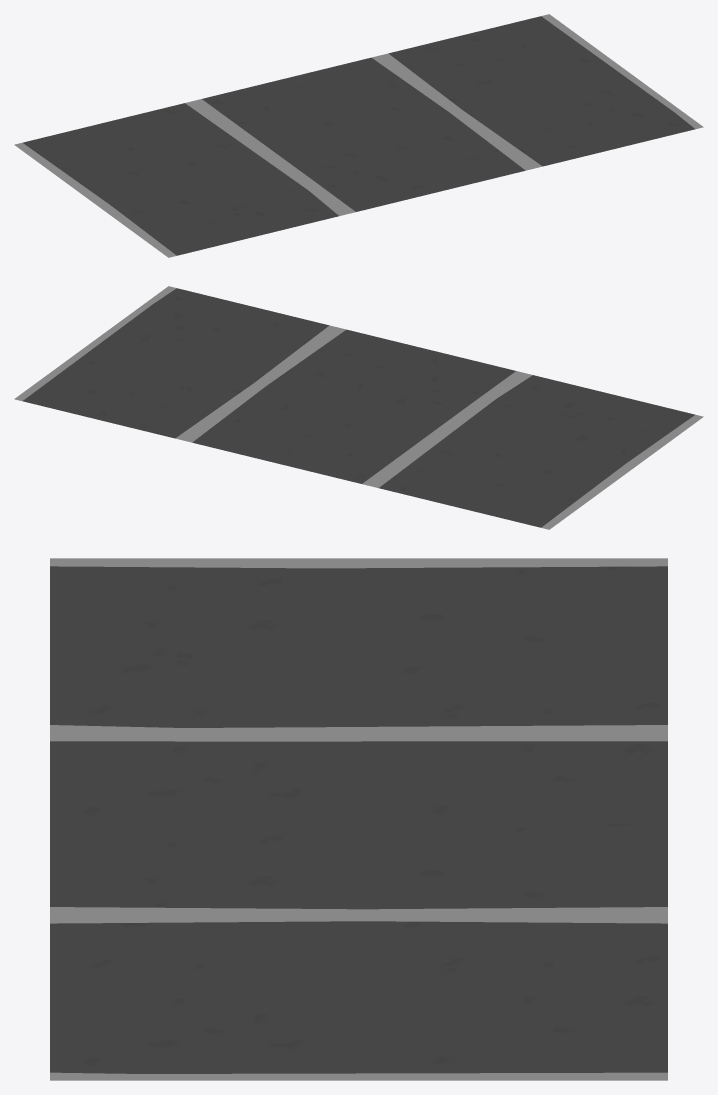
File: SM_Env_Road_ParkingLines_01.obj
3 views of the same model, one above another, from view 1: azimuth 30°, elevation 25°; view 2: azimuth 150°, elevation 25°; view 3: azimuth 270°, elevation 25° (orthographic). The views are drawn at different scales.
Parts seen in each view (by area): view 1: SM_Env_Road_ParkingLines_01_0; view 2: SM_Env_Road_ParkingLines_01_0; view 3: SM_Env_Road_ParkingLines_01_0.
Boxes of the visible parts, x1=… form: SM_Env_Road_ParkingLines_01_0: x1=14, y1=14, x2=703, y2=257; SM_Env_Road_ParkingLines_01_0: x1=14, y1=286, x2=703, y2=529; SM_Env_Road_ParkingLines_01_0: x1=50, y1=558, x2=667, y2=1080.
Bounding box in the file's own units: 10 × 0 × 5.
1 material, 1 textured.
